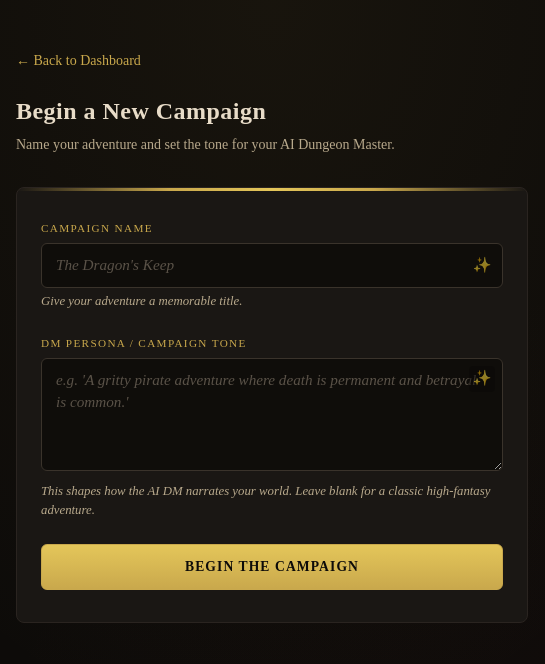
Test: CreateGameForm › Zod validation › clears validation errors on re-submit
// Trigger error
Step 1. Click the button with test id "submit-button" → (272, 567), box [41, 544, 503, 590]
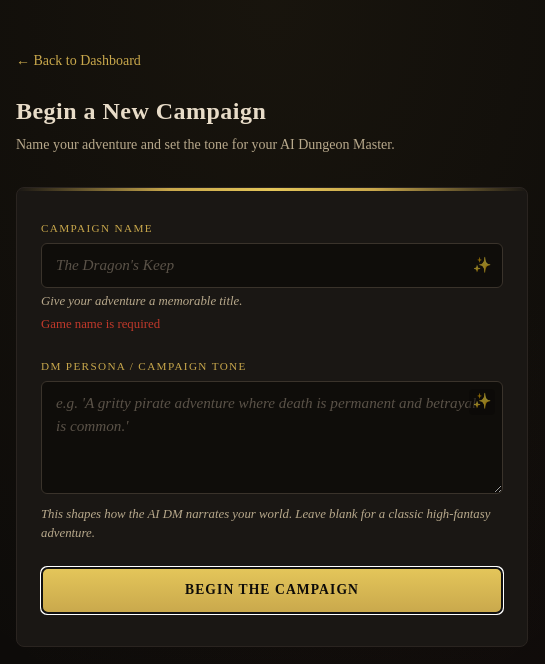
Expected: the text "Game name is required" is shown, [41, 317, 160, 331]
// Fix and re-submit
Step 2. Type "Valid Name" into the field with test id "game-name-input" → (272, 265), box [41, 243, 503, 288]
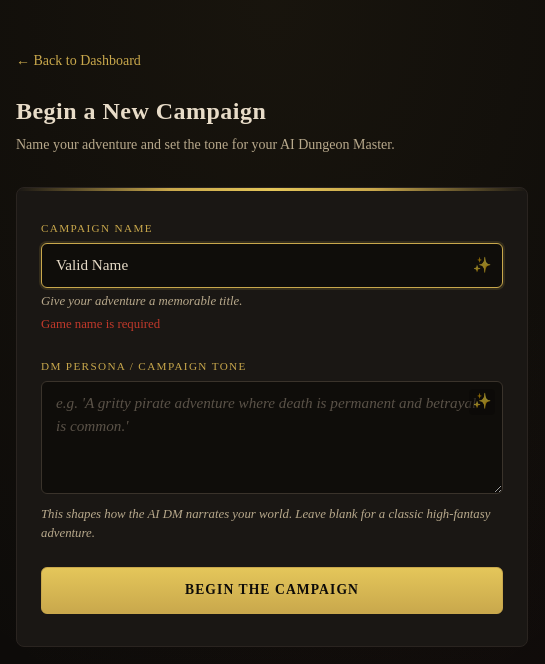
Step 3. Click the button with test id "submit-button" → (272, 590), box [41, 567, 503, 614]
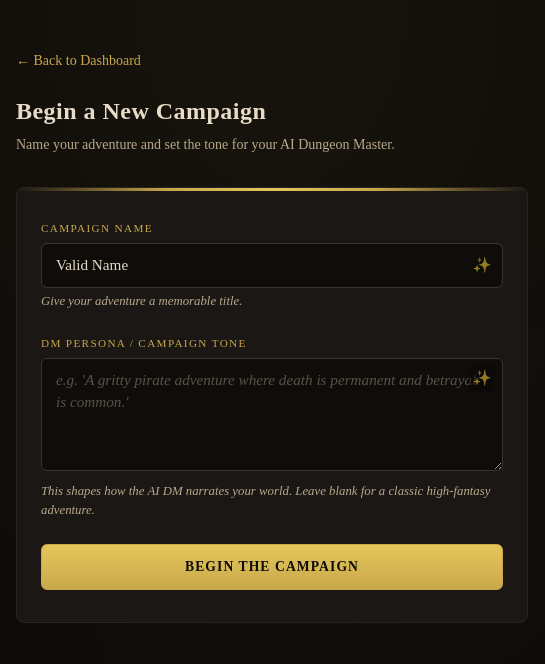
Expected: the text "Game name is required" is gone
